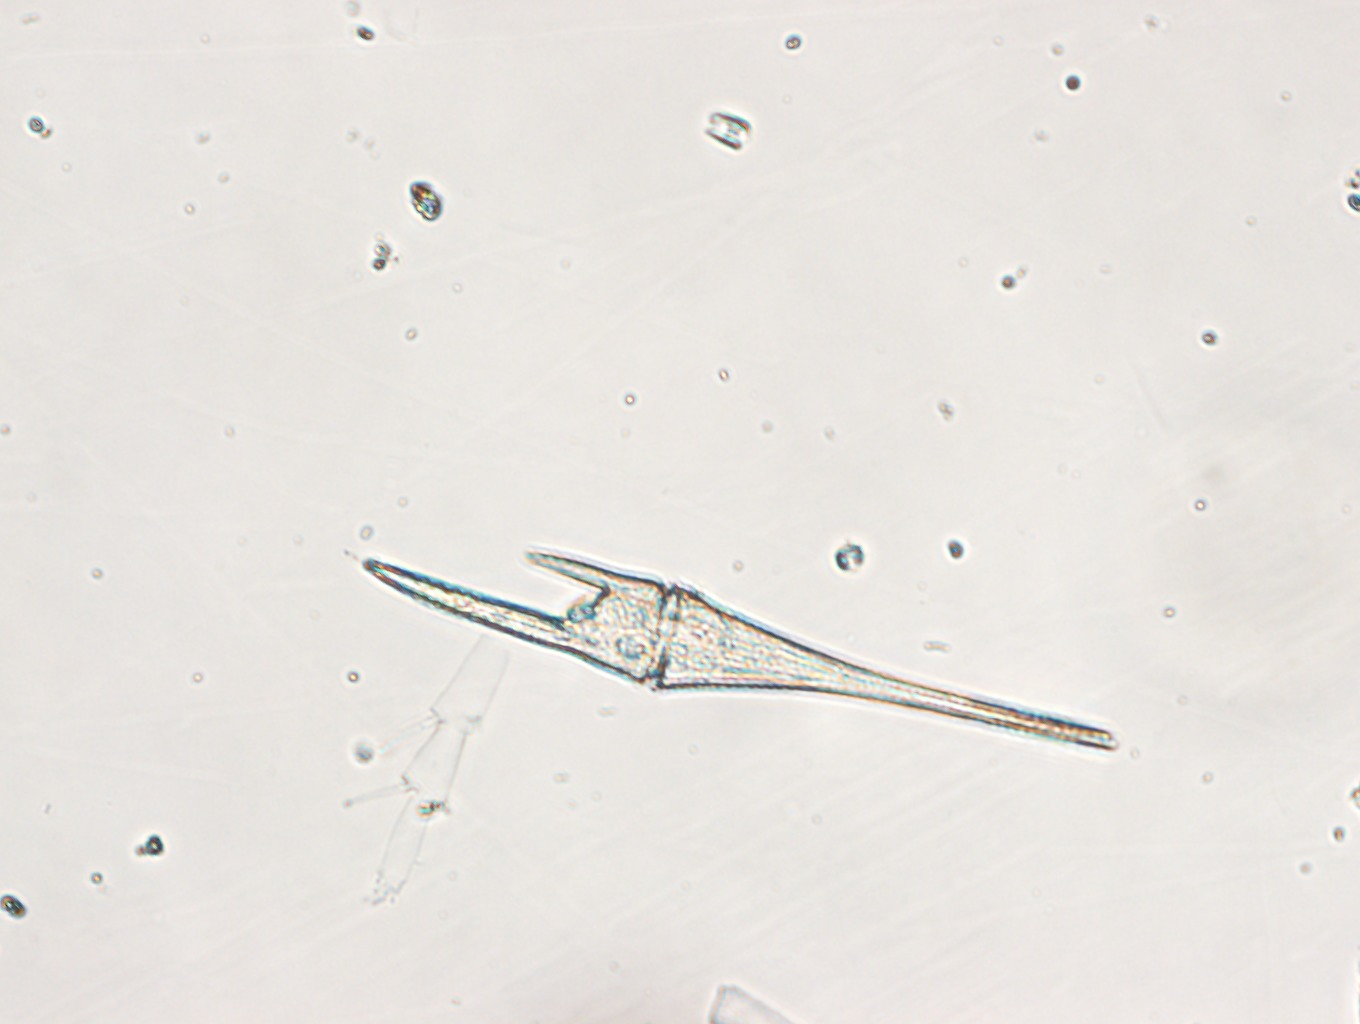ceratium furca: (355, 540, 1119, 757)
